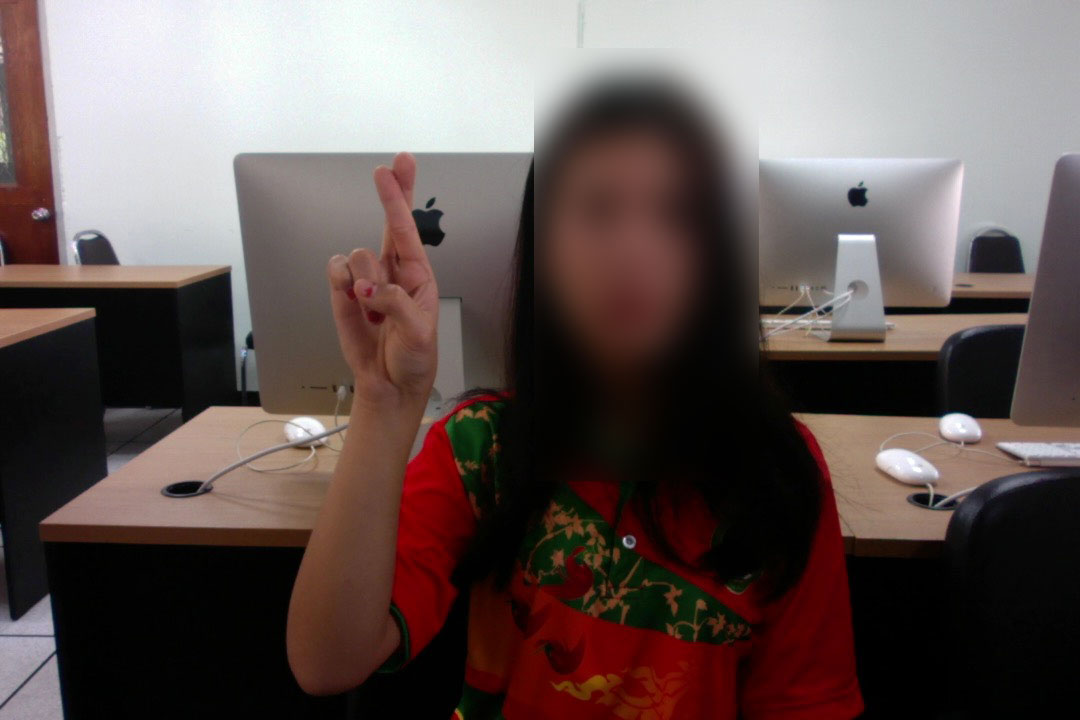rao: (320, 142, 472, 418)
